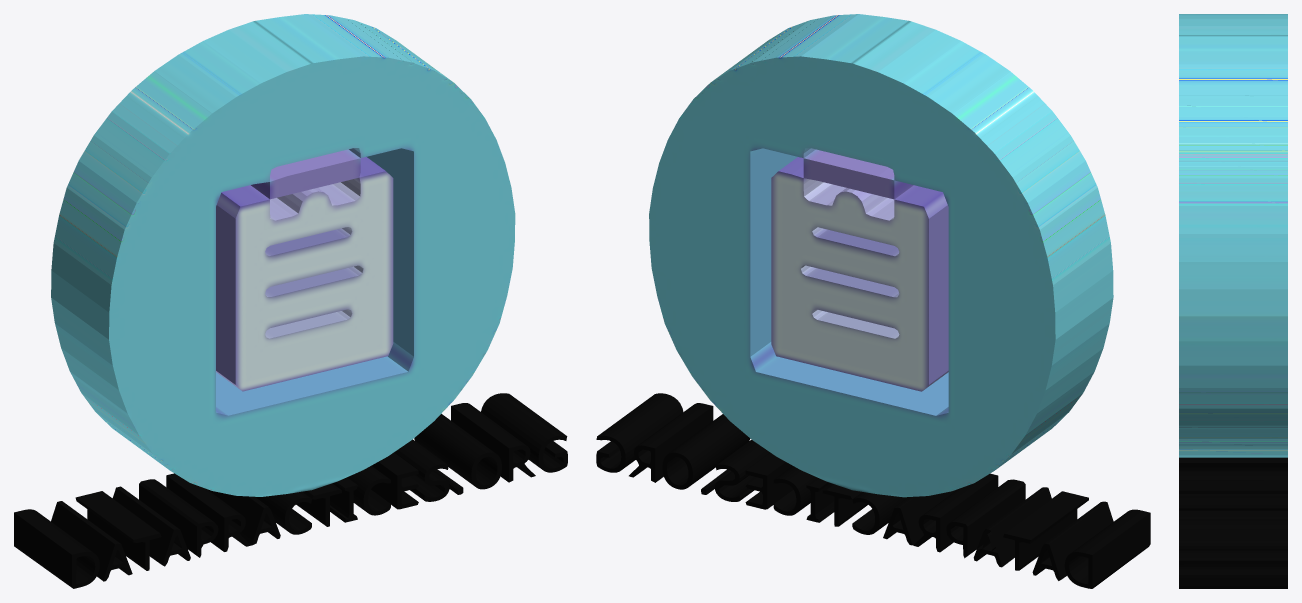
The model's file is data-practices.glb.
3 renders of one model, left to right at view 1: azimuth 30°, elevation 25°; view 2: azimuth 150°, elevation 25°; view 3: azimuth 270°, elevation 25°, orthographic. The views are drawn at different scales.
Parts seen in each view (by area): view 1: Curve; view 2: Curve; view 3: Curve.
Boxes of the visible parts, box(x1,y1,x2,y2) form: Curve: box(14, 14, 567, 588); Curve: box(596, 14, 1150, 588); Curve: box(1179, 14, 1287, 588).
Size of the model in its own units: 0.0247 by 0.0223 by 0.005.
Materials: 1 (1 with a texture image).
